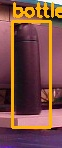bottle: (12, 21, 50, 127)
